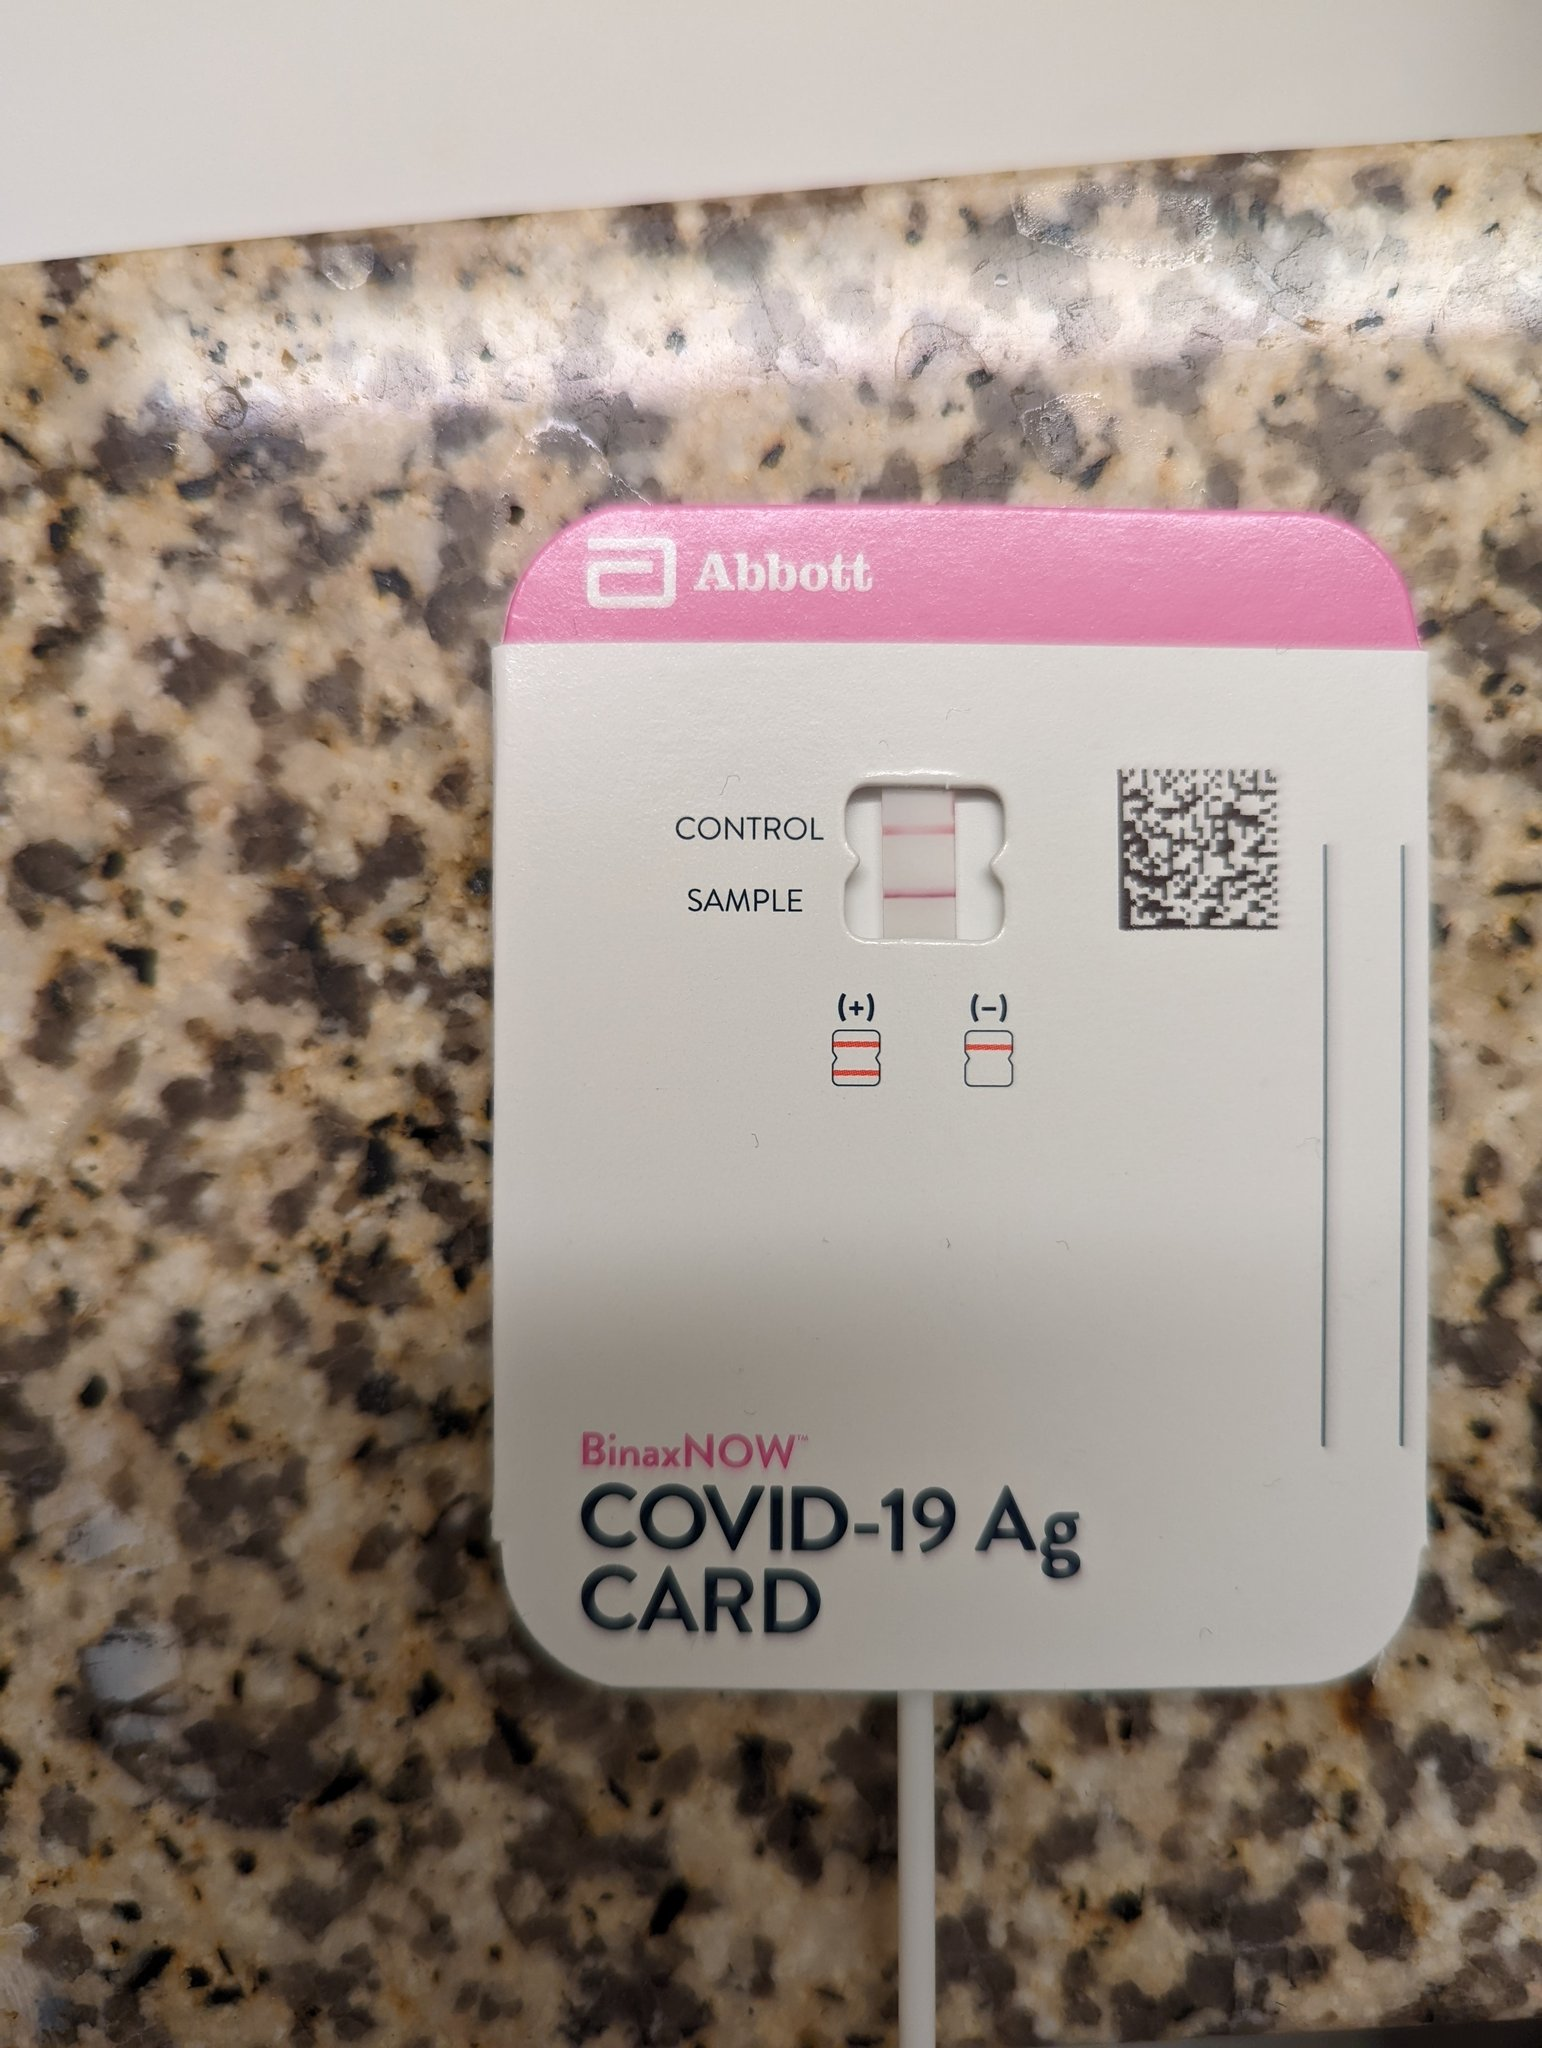positive: (862, 775, 967, 939)
